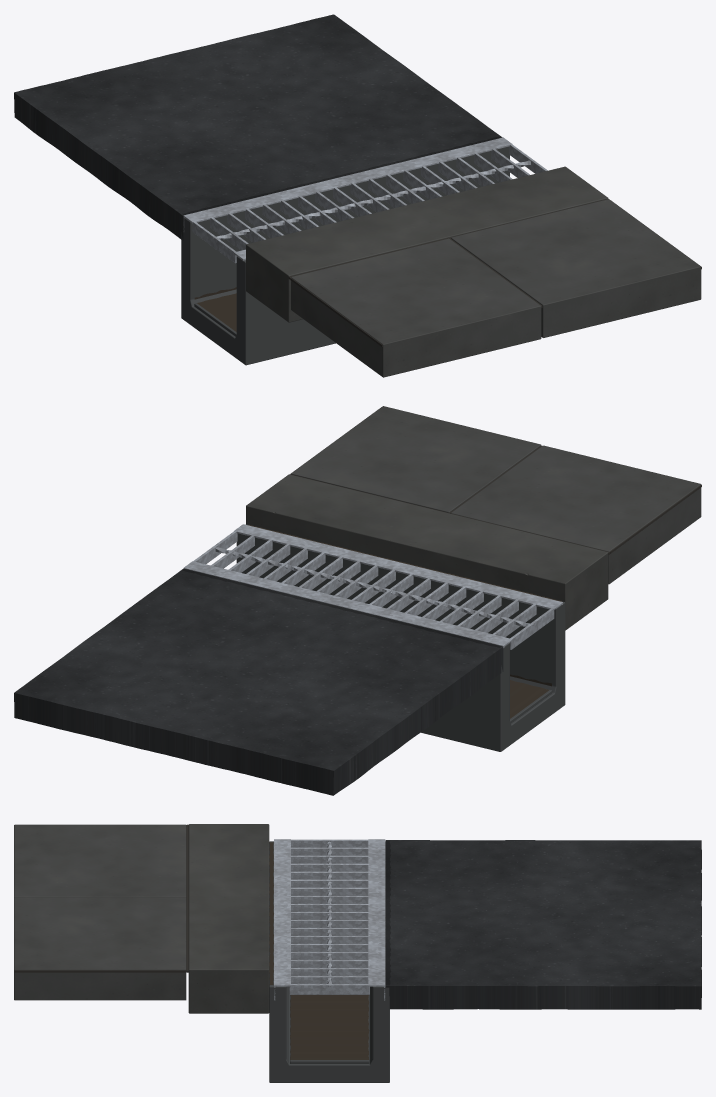
Rendered from ProjectShinrai_HGU150_Drain_GameReady.glb.
The picture shows the model from 3 angles, top to bottom: view 1: azimuth 30°, elevation 25°; view 2: azimuth 150°, elevation 25°; view 3: azimuth 270°, elevation 25°; orthographic projection. The views are drawn at different scales.
Visible parts, largest first — view 1: SM_Drain_AsphaltApron, SM_Drain_PrecastPavers, SM_Drain_PrecastCurb, SM_Drain_GrateGalvanized, SM_Drain_ChannelConcrete, SM_Drain_PavingJoints, SM_Drain_DrySilt, SM_Drain_CompactedJoint; view 2: SM_Drain_AsphaltApron, SM_Drain_PrecastPavers, SM_Drain_PrecastCurb, SM_Drain_GrateGalvanized, SM_Drain_ChannelConcrete, SM_Drain_DrySilt, SM_Drain_CompactedJoint, SM_Drain_PavingJoints; view 3: SM_Drain_AsphaltApron, SM_Drain_PrecastPavers, SM_Drain_GrateGalvanized, SM_Drain_PrecastCurb, SM_Drain_ChannelConcrete, SM_Drain_DrySilt, SM_Drain_PavingJoints, SM_Drain_CompactedJoint.
Part boxes in pixels (x1,y1,x2,y2): SM_Drain_AsphaltApron: (14,14,502,240); SM_Drain_PrecastPavers: (291,199,701,377); SM_Drain_PrecastCurb: (246,166,608,322); SM_Drain_GrateGalvanized: (183,137,547,263); SM_Drain_ChannelConcrete: (181,146,509,365); SM_Drain_PavingJoints: (288,199,701,346); SM_Drain_DrySilt: (194,287,236,331); SM_Drain_CompactedJoint: (182,136,501,215); SM_Drain_AsphaltApron: (14,568,503,795); SM_Drain_PrecastPavers: (291,406,701,584); SM_Drain_PrecastCurb: (246,474,608,630); SM_Drain_GrateGalvanized: (183,524,562,649); SM_Drain_ChannelConcrete: (236,524,565,751); SM_Drain_DrySilt: (248,524,561,718); SM_Drain_CompactedJoint: (182,568,501,647); SM_Drain_PavingJoints: (290,407,701,554); SM_Drain_AsphaltApron: (385,840,701,1009); SM_Drain_PrecastPavers: (14,824,186,1000); SM_Drain_GrateGalvanized: (274,839,385,1000); SM_Drain_PrecastCurb: (188,824,269,1013); SM_Drain_ChannelConcrete: (269,841,389,1082); SM_Drain_DrySilt: (269,842,385,1059); SM_Drain_PavingJoints: (14,824,188,972); SM_Drain_CompactedJoint: (385,840,391,985).
Size of what is drawn, in the model's own units: 0.6022 by 0.218 by 1.2.
Materials: 9 (6 with a texture image).
